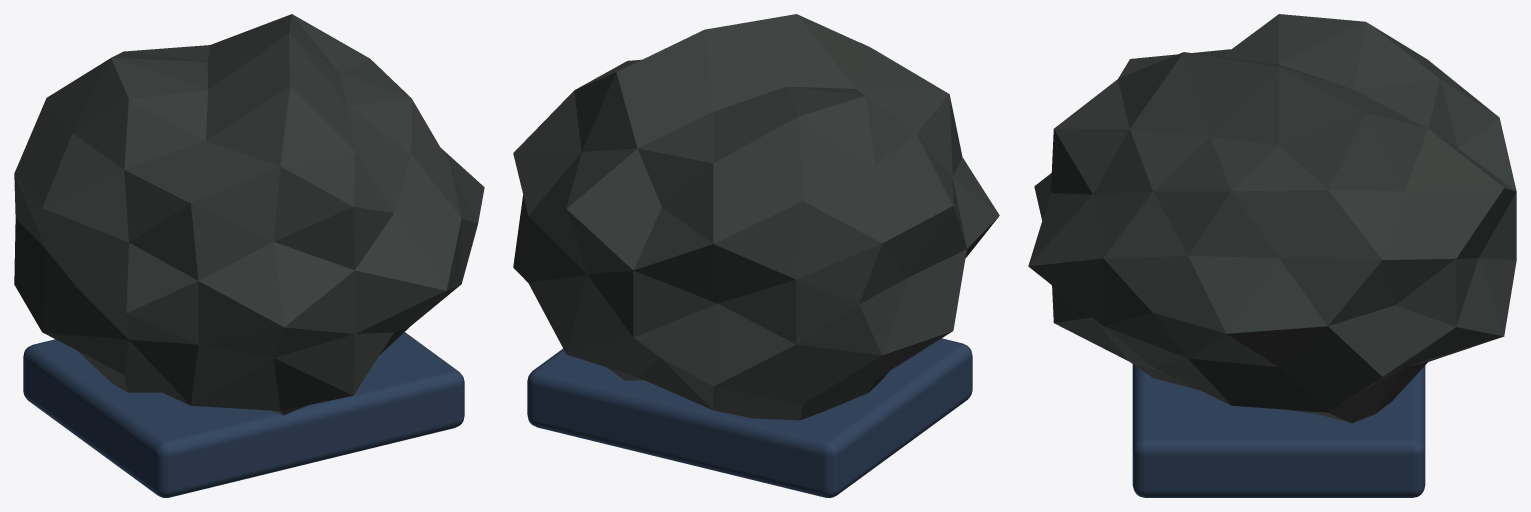
Rendered from planetarium-and-optical-observatory-meteorite-specimen-e50bd242__31842.glb.
3 renders of one model, left to right at view 1: azimuth 30°, elevation 25°; view 2: azimuth 150°, elevation 25°; view 3: azimuth 270°, elevation 25°, orthographic. The views are drawn at different scales.
Parts seen in each view (by area): view 1: meteorite-specimen; view 2: meteorite-specimen; view 3: meteorite-specimen.
Part boxes in pixels (x1=…): meteorite-specimen: x1=14, y1=14, x2=484, y2=497; meteorite-specimen: x1=513, y1=14, x2=999, y2=497; meteorite-specimen: x1=1028, y1=14, x2=1516, y2=497.
Bounding box in the file's own units: 0.2705 × 0.2294 × 0.267.
